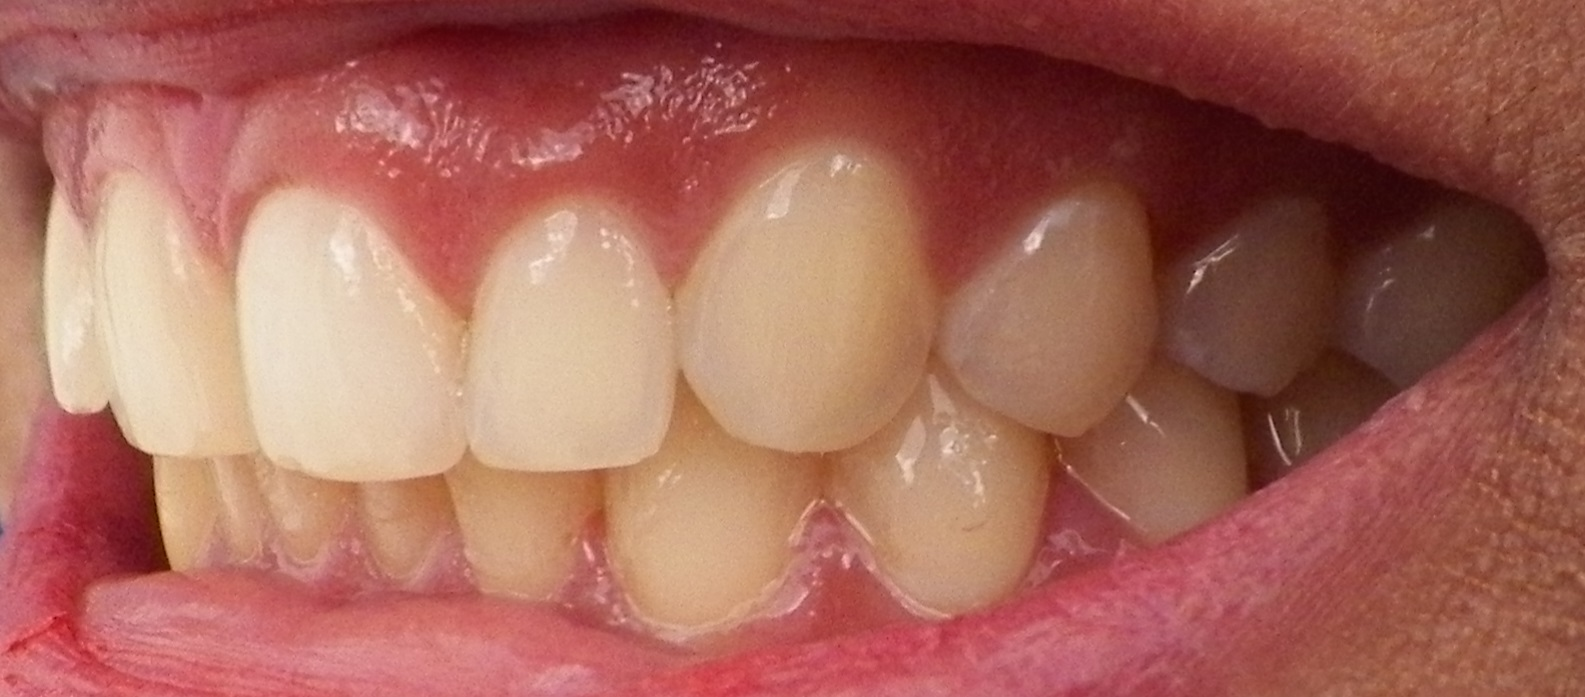boca: (45, 119, 1514, 615)
